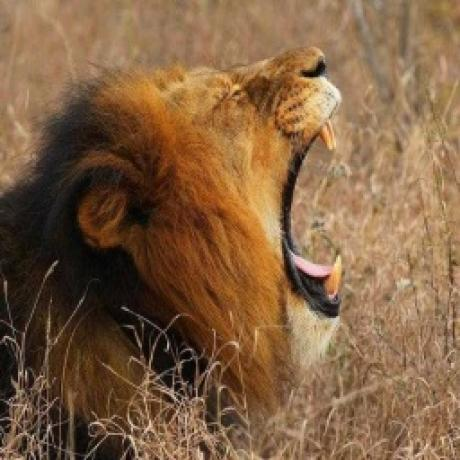Lion: (0, 42, 347, 416)
